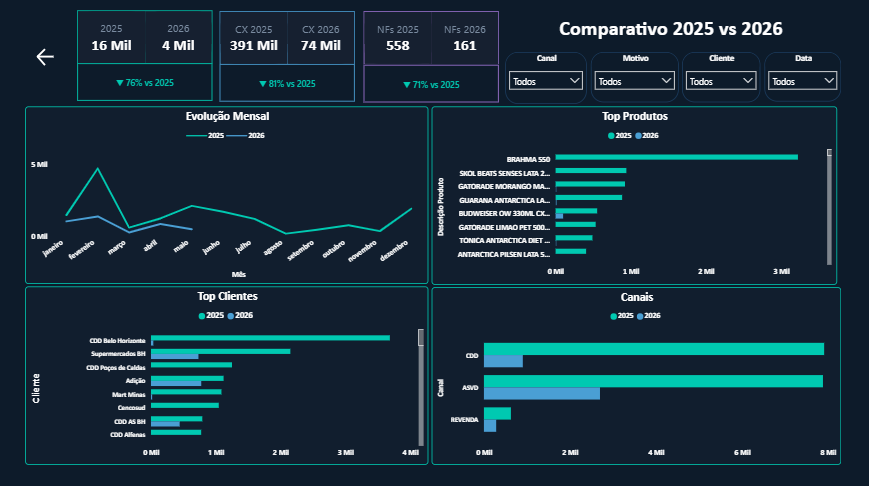

What the dashboard file says about the page in this screenshot:
{"tool":"powerbi","page":{"name":"Comparativo","canvas":[1280,720],"ordinal":2},"visuals":[{"type":"shape","box":[85.7,10,211.2,83.1],"z":0,"group":"g3"},{"type":"shape","box":[308.6,11.4,211.2,83.1],"z":0,"group":"g6"},{"type":"shape","box":[533.3,11.7,211.2,83.1],"z":0},{"type":"cardVisual","title":"Volume devolvido","fields":{"Data":["Sheet1_Consolidado.NFs 2025"]},"box":[534.6,12.9,105.2,81.9],"z":1000},{"type":"cardVisual","fields":{"Data":["Sheet1_Consolidado.Var % HL Texto"]},"box":[85.8,93.1,211,59.3],"z":1000,"group":"g5"},{"type":"cardVisual","fields":{"Data":["Sheet1_Consolidado.Var % CX Texto"]},"box":[308.7,94.5,211,59.3],"z":1000,"group":"g2"},{"type":"lineChart","title":"Evolução Mensal","fields":{"Category":["Sheet1_Consolidado.Emissão nf.Variation.Hierarquia de datas.Mês"],"Y":["Sheet1_Consolidado.HL 2025","Sheet1_Consolidado.HL 2026"]},"box":[5.3,160,630,278],"z":2000},{"type":"cardVisual","title":"Volume devolvido","fields":{"Data":["Sheet1_Consolidado.HL 2025"]},"box":[87,11.2,105.2,81.9],"z":3000,"group":"g1"},{"type":"cardVisual","title":"Volume devolvido","fields":{"Data":["Sheet1_Consolidado.CX 2025"]},"box":[309.8,12.6,105.2,81.9],"z":3000,"group":"g4"},{"type":"cardVisual","fields":{"Data":["Sheet1_Consolidado.Var % NFs Texto"]},"box":[533.5,94.8,211,59.3],"z":3000},{"type":"cardVisual","title":"Volume devolvido","fields":{"Data":["Sheet1_Consolidado.CX 2026"]},"box":[639.8,12.9,104.8,81.9],"z":4000},{"type":"cardVisual","title":"Volume devolvido","fields":{"Data":["Sheet1_Consolidado.HL 2026"]},"box":[192.2,11.2,104.8,81.9],"z":5000,"group":"g1"},{"type":"cardVisual","title":"Volume devolvido","fields":{"Data":["Sheet1_Consolidado.CX 2026"]},"box":[415,12.6,104.8,81.9],"z":5000,"group":"g4"},{"type":"clusteredBarChart","title":"Top Produtos","fields":{"Category":["Sheet1_Consolidado.Descrição Produto"],"Y":["Sheet1_Consolidado.HL 2025","Sheet1_Consolidado.HL 2026"]},"box":[640,160,633.3,278.3],"z":5000},{"type":"group","id":"g1","title":"Grupo 1","box":[87,11.2,210,81.9],"z":6000,"group":"g3"},{"type":"group","id":"g2","title":"Grupo 5","box":[308.7,12.6,211.1,141.2],"z":6000,"group":"g6"},{"type":"cardVisual","title":"Volume devolvido","fields":{"Data":["Sheet1_Consolidado.NFs 2026"]},"box":[639.8,12.9,104.8,81.9],"z":6000},{"type":"group","id":"g3","title":"Grupo 2","box":[85.7,10,211.3,83.1],"z":6001,"group":"g5"},{"type":"group","id":"g4","title":"Grupo 4","box":[309.8,12.6,210,81.9],"z":6003,"group":"g2"},{"type":"clusteredBarChart","title":"Top Clientes","fields":{"Y":["Sheet1_Consolidado.HL 2025","Sheet1_Consolidado.HL 2026"],"Category":["Sheet1_Consolidado.Cliente"]},"box":[5.5,440.9,630,279.1],"z":7000},{"type":"clusteredBarChart","title":"Canais","fields":{"Y":["Sheet1_Consolidado.HL 2025","Sheet1_Consolidado.HL 2026"],"Category":["Canal.Canal"]},"box":[640,442,640,278],"z":8000},{"type":"group","id":"g5","title":"Grupo 3","box":[85.7,10,211.4,142.9],"z":9000},{"type":"group","id":"g6","title":"Grupo 6","box":[308.6,11.4,211.4,142.1],"z":10000},{"type":"actionButton","box":[18.3,65,48.3,36.7],"z":11000},{"type":"slicer","title":"Canal","fields":{"Values":["Canal.Canal"]},"box":[754.7,74.7,127.3,80.7],"z":12000},{"type":"slicer","title":"Motivo","fields":{"Values":["Sheet1_Consolidado.Motivo"]},"box":[888.2,74.5,137.3,79.1],"z":13000},{"type":"slicer","title":"Cliente","fields":{"Values":["Sheet1_Consolidado.Cliente"]},"box":[1030.7,74.7,122,78.7],"z":14000},{"type":"slicer","title":"Data","fields":{"Values":["Sheet1_Consolidado.Emissão nf.Variation.Hierarquia de datas.Mês","Sheet1_Consolidado.Emissão nf.Variation.Hierarquia de datas.Dia"]},"box":[1160,74.7,120,78],"z":15000},{"type":"textbox","box":[755,13.3,518.3,51.7],"z":16000}]}

Visuals, with their boxes in screenshot pixels (x1, y1, x2, y2), scaled from the page's 1280x720 canvas onto the 869x486 screenshot:
shape: 58,7,202,63
shape: 210,8,353,64
shape: 362,8,505,64
"Volume devolvido" cardVisual: 363,9,434,64
cardVisual - Sheet1_Consolidado.Var % HL Texto: 58,63,201,103
cardVisual - Sheet1_Consolidado.Var % CX Texto: 210,64,353,104
"Evolução Mensal" lineChart: 4,108,431,296
"Volume devolvido" cardVisual: 59,8,130,63
"Volume devolvido" cardVisual: 210,9,282,64
cardVisual - Sheet1_Consolidado.Var % NFs Texto: 362,64,505,104
"Volume devolvido" cardVisual: 434,9,506,64
"Volume devolvido" cardVisual: 130,8,202,63
"Volume devolvido" cardVisual: 282,9,353,64
"Top Produtos" clusteredBarChart: 434,108,864,296
"Grupo 1" group: 59,8,202,63
"Grupo 5" group: 210,9,353,104
"Volume devolvido" cardVisual: 434,9,506,64
"Grupo 2" group: 58,7,202,63
"Grupo 4" group: 210,9,353,64
"Top Clientes" clusteredBarChart: 4,298,431,485
"Canais" clusteredBarChart: 434,298,868,485
"Grupo 3" group: 58,7,202,103
"Grupo 6" group: 210,8,353,104
actionButton: 12,44,45,69
"Canal" slicer: 512,50,599,105
"Motivo" slicer: 603,50,696,104
"Cliente" slicer: 700,50,783,104
"Data" slicer: 788,50,868,103
textbox: 513,9,864,44
